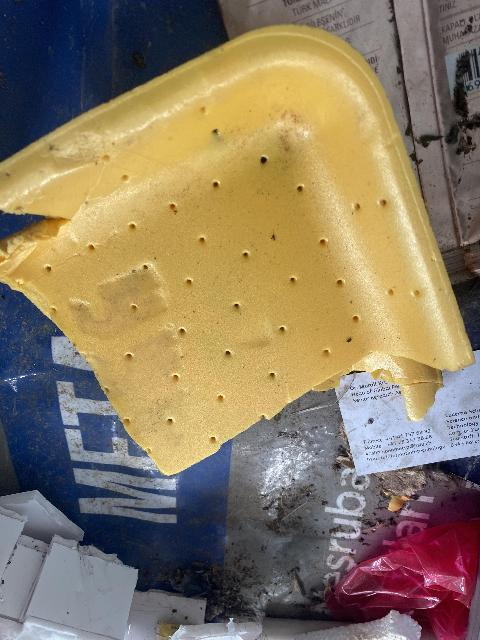Kagit: (354, 376, 480, 462)
Plastik: (0, 27, 480, 452)
